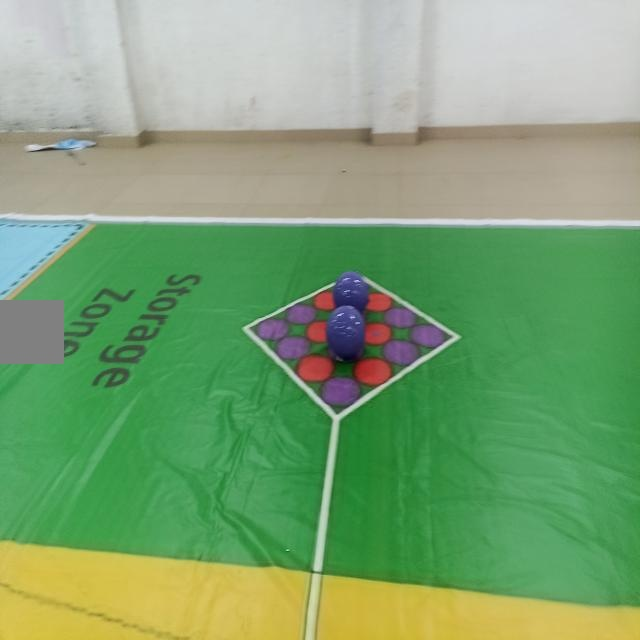purple_ball: (324, 306, 364, 357), (336, 272, 368, 309)
